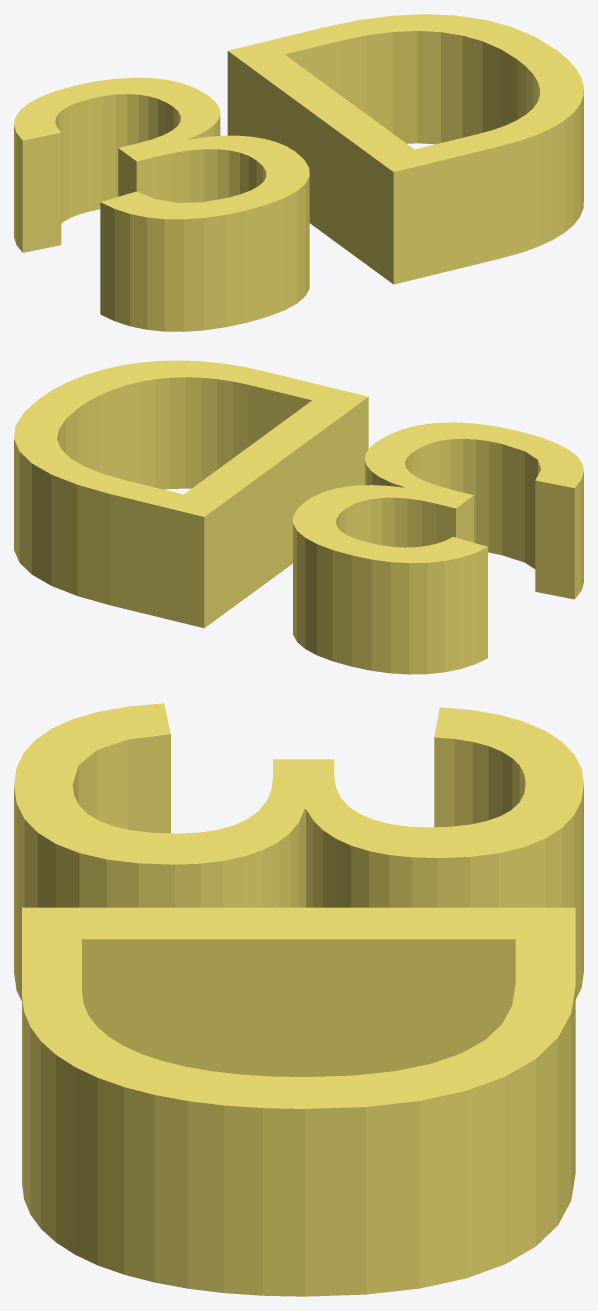
3 views of the same model, one above another, from view 1: azimuth 30°, elevation 25°; view 2: azimuth 150°, elevation 25°; view 3: azimuth 270°, elevation 25° (orthographic). The views are drawn at different scales.
Bounding box in the file's own units: 23.18 × 5 × 13.77.
